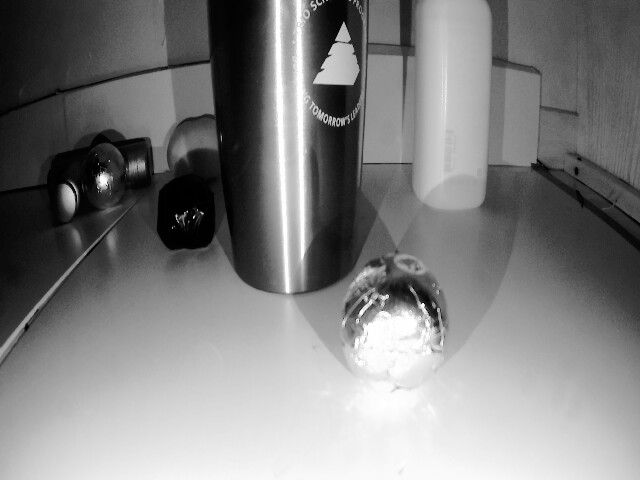black: (346, 252, 449, 389), (86, 143, 124, 205)
silver: (158, 173, 221, 254)
